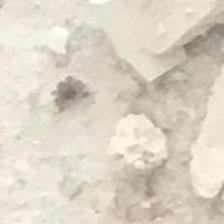Crack: (25, 12, 224, 207)
